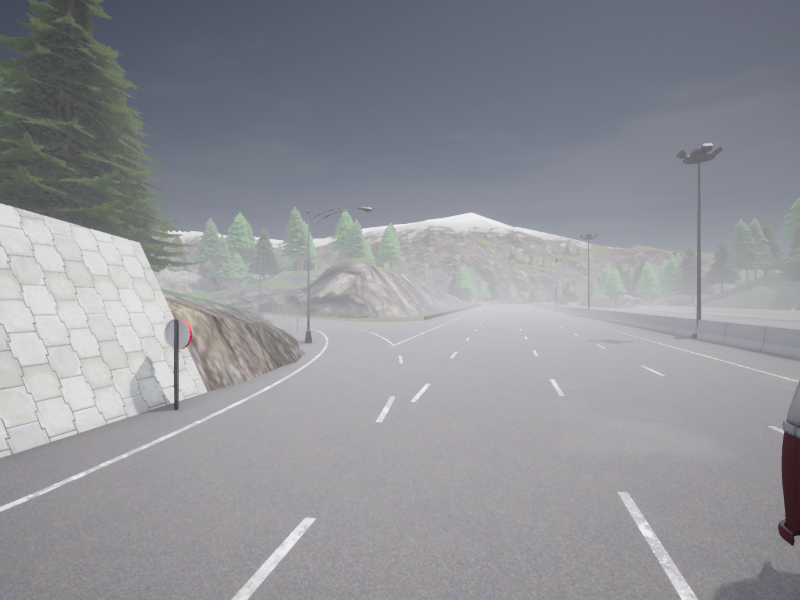vehicle: (778, 381, 799, 545), (560, 298, 567, 304), (554, 301, 559, 304)
